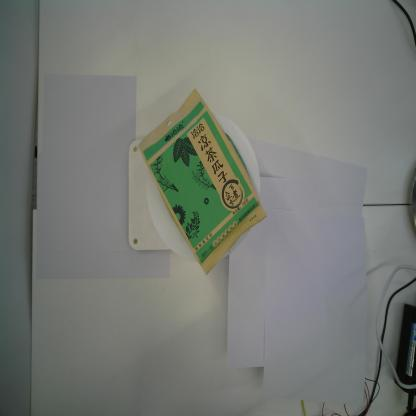Dried Food: (136, 83, 268, 277)
